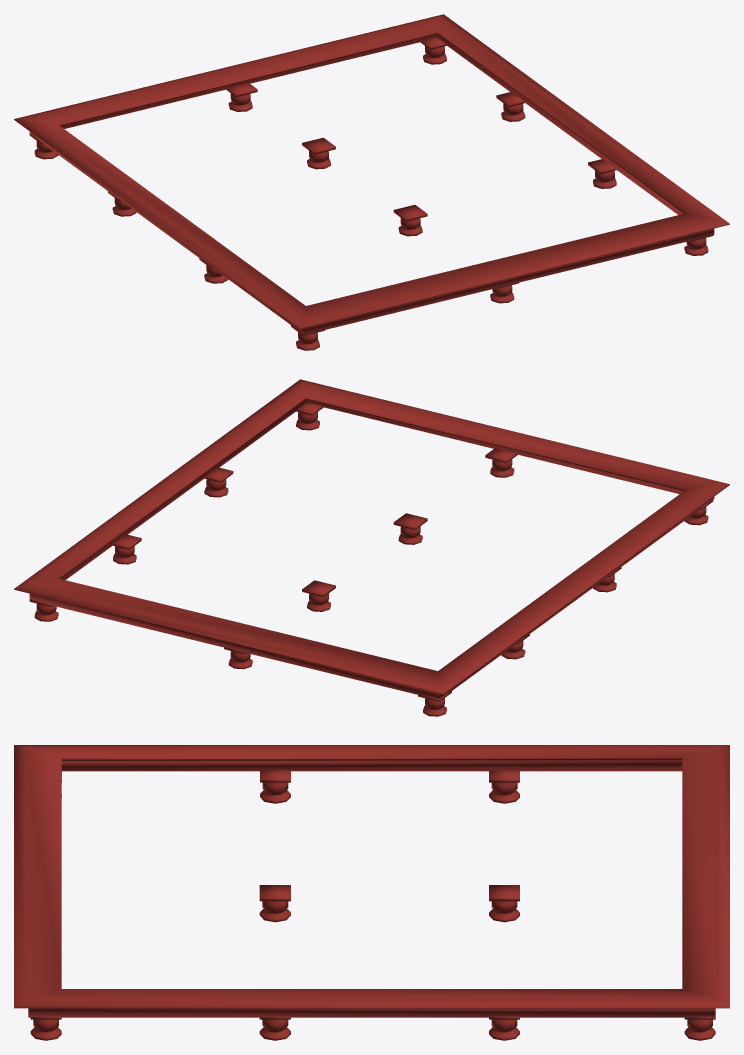
The model's file is SimpleTable.obj.
3 views of the same model, one above another, from view 1: azimuth 30°, elevation 25°; view 2: azimuth 150°, elevation 25°; view 3: azimuth 270°, elevation 25° (orthographic). The views are drawn at different scales.
Parts seen in each view (by area): view 1: SimpleTable.obj; view 2: SimpleTable.obj; view 3: SimpleTable.obj.
Part boxes in pixels (x1=…): SimpleTable.obj: x1=14, y1=14, x2=729, y2=350; SimpleTable.obj: x1=14, y1=379, x2=729, y2=716; SimpleTable.obj: x1=14, y1=745, x2=729, y2=1040.
Size of the model in its own units: 26 by 1.97 by 30.
